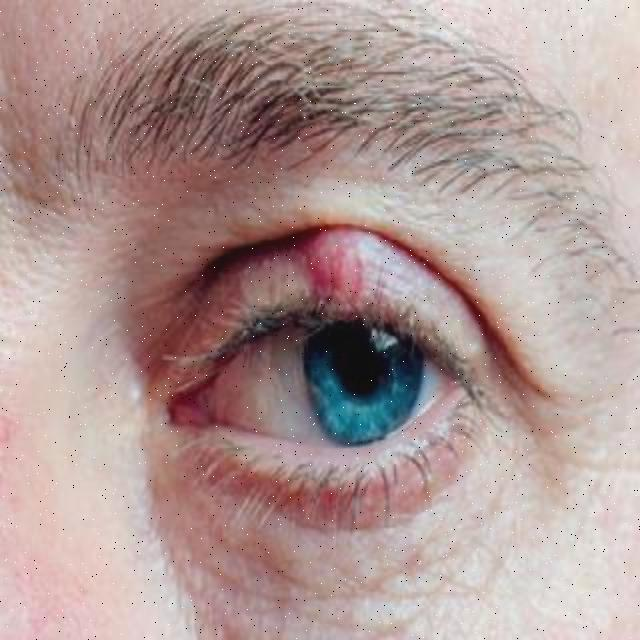Stye: (280, 198, 437, 362)
